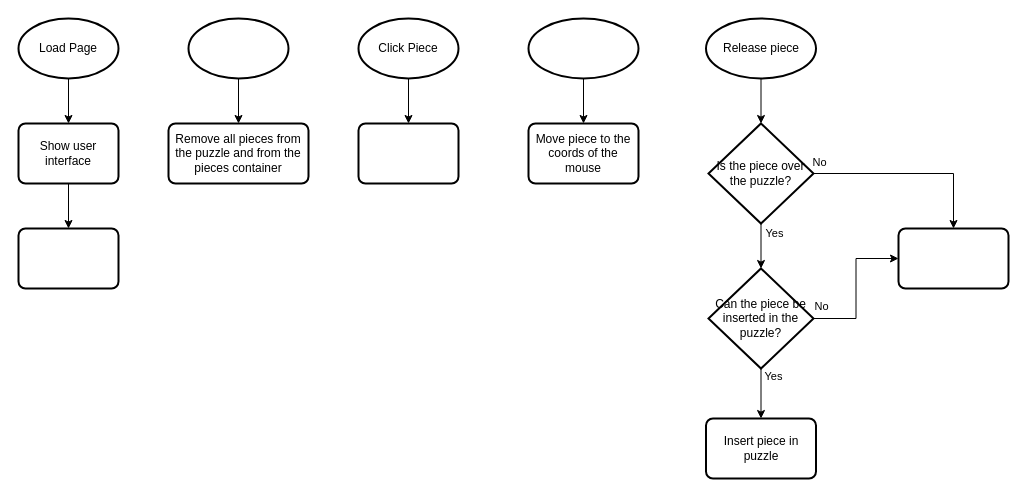
Image size: 1026x496. Some labels were removed from this diagram. Here are the shapes that lost their labels. From the top down, the centre of each, then its label:
point 238,48: Click Play
point 583,48: Drag piece
point 408,153: Rotate piece
point 68,258: Generate and show pieces
point 953,258: Insert piece to the pieces container
